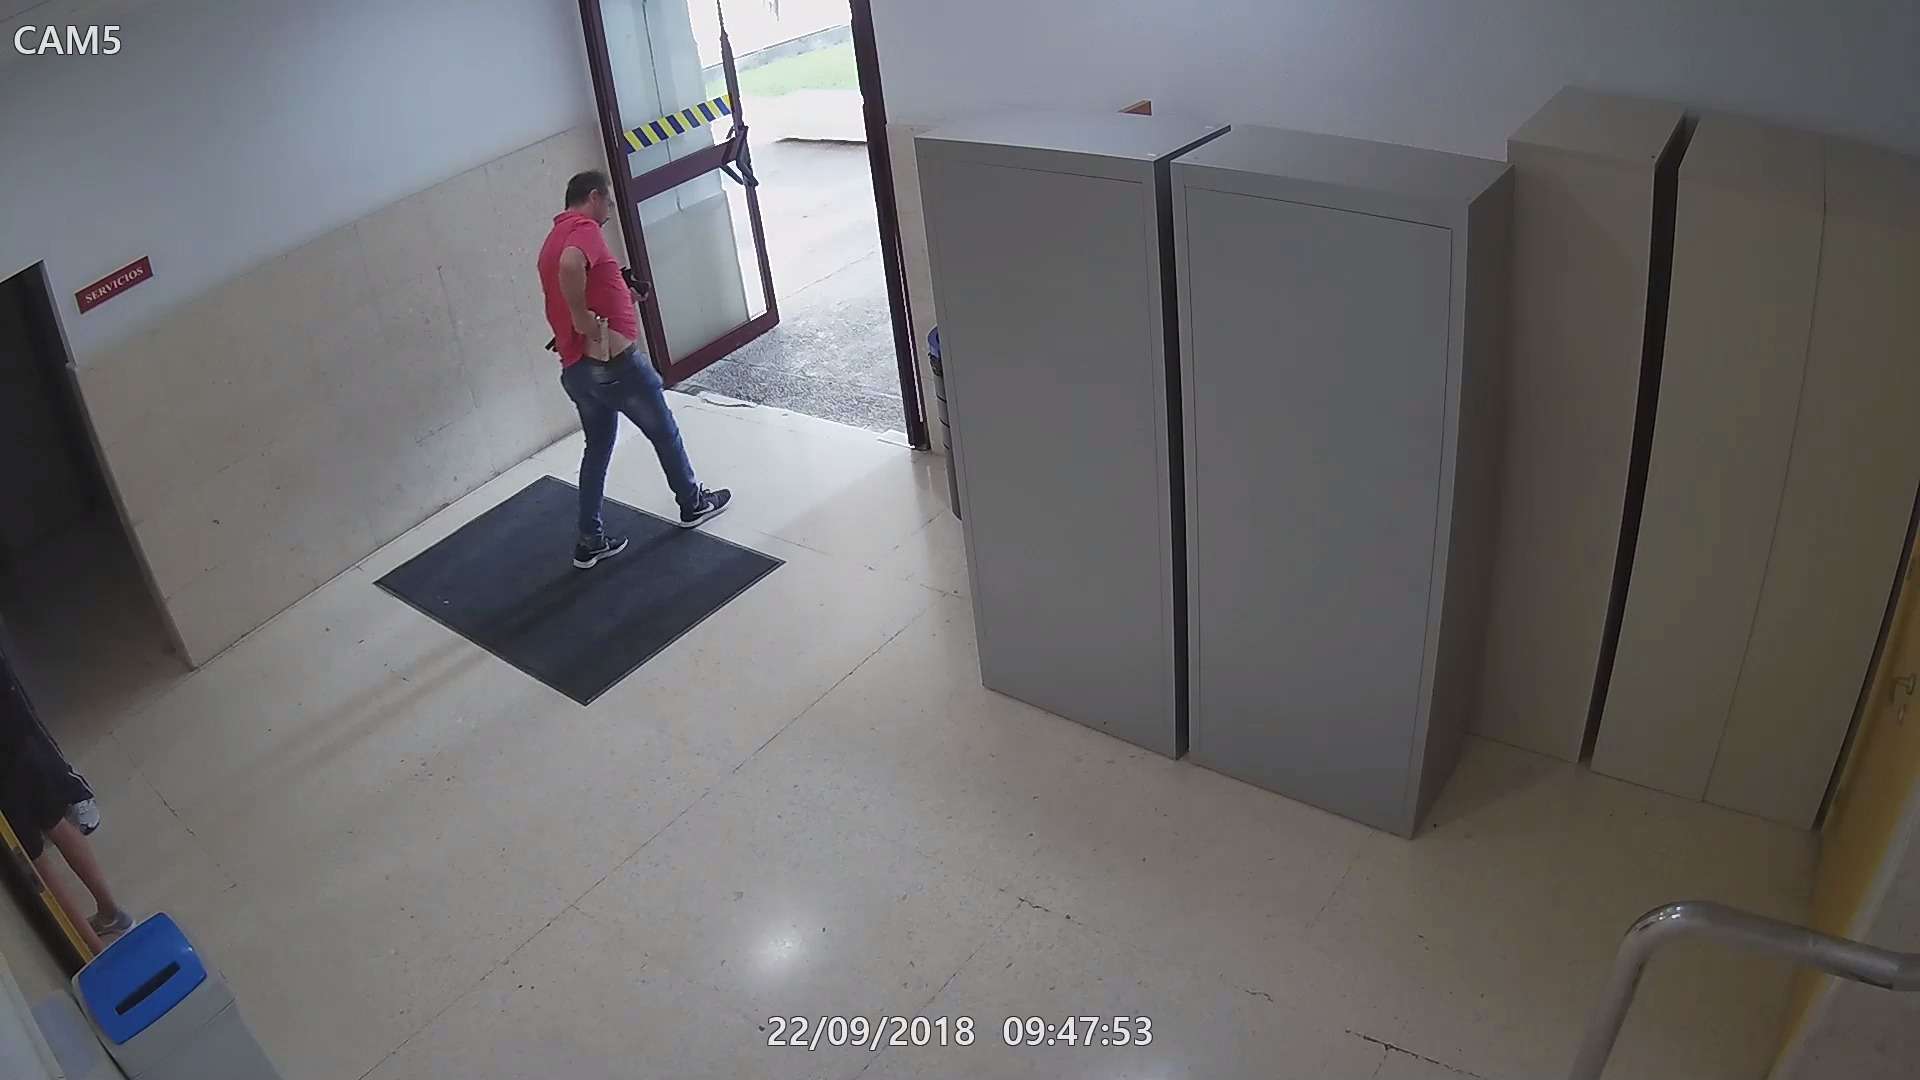Handgun: (576, 313, 615, 363)
Short_rifle: (543, 265, 653, 352)
